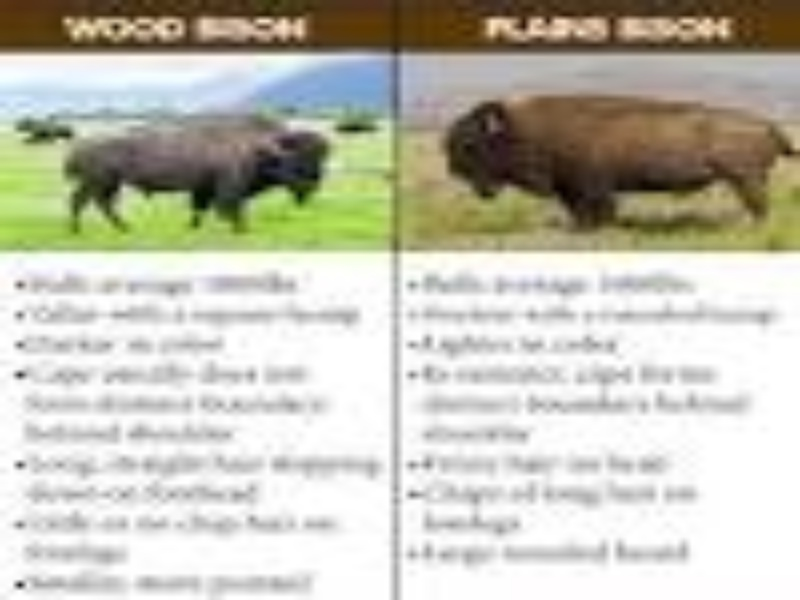buffalo: (28, 92, 352, 246)
